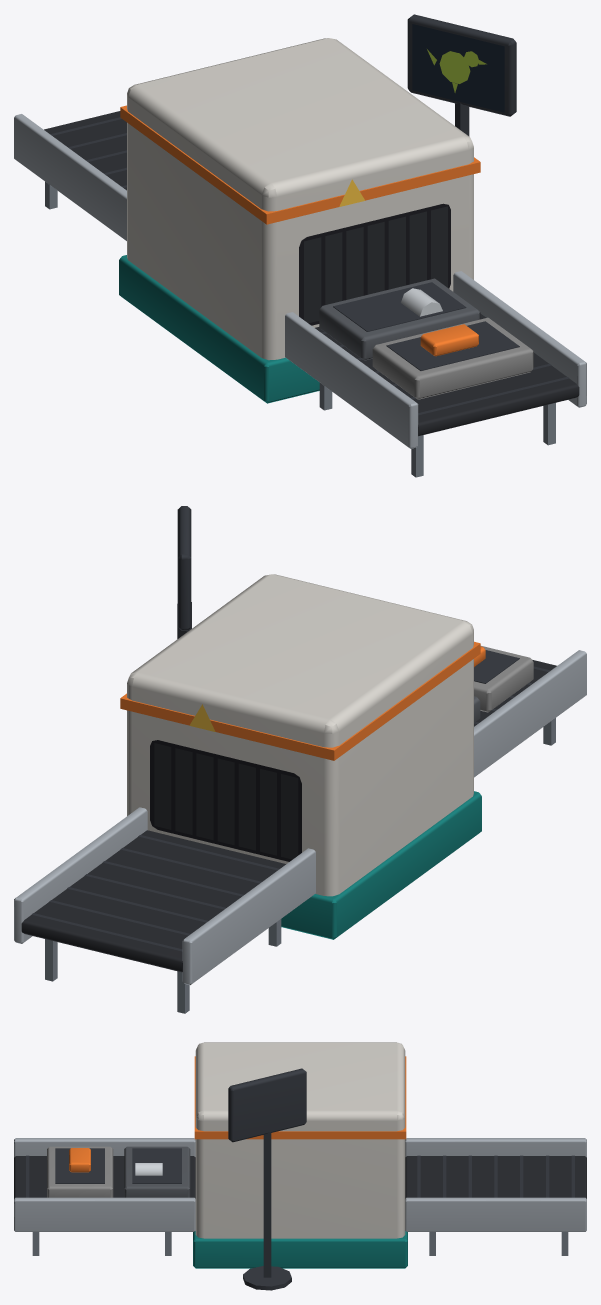
File: RayosX.fbx
3 renders of one model, top to bottom at view 1: azimuth 30°, elevation 25°; view 2: azimuth 150°, elevation 25°; view 3: azimuth 270°, elevation 25°, orthographic. The views are drawn at different scales.
Visible parts, largest first — view 1: RayosX; view 2: RayosX; view 3: RayosX.
Boxes of the visible parts, x1=… form: RayosX: x1=14, y1=14, x2=586, y2=477; RayosX: x1=14, y1=506, x2=586, y2=1013; RayosX: x1=14, y1=1042, x2=586, y2=1290.
Size of the model in its own units: 4.2 by 4.05 by 10.4.
Materials: 1 (1 with a texture image).
